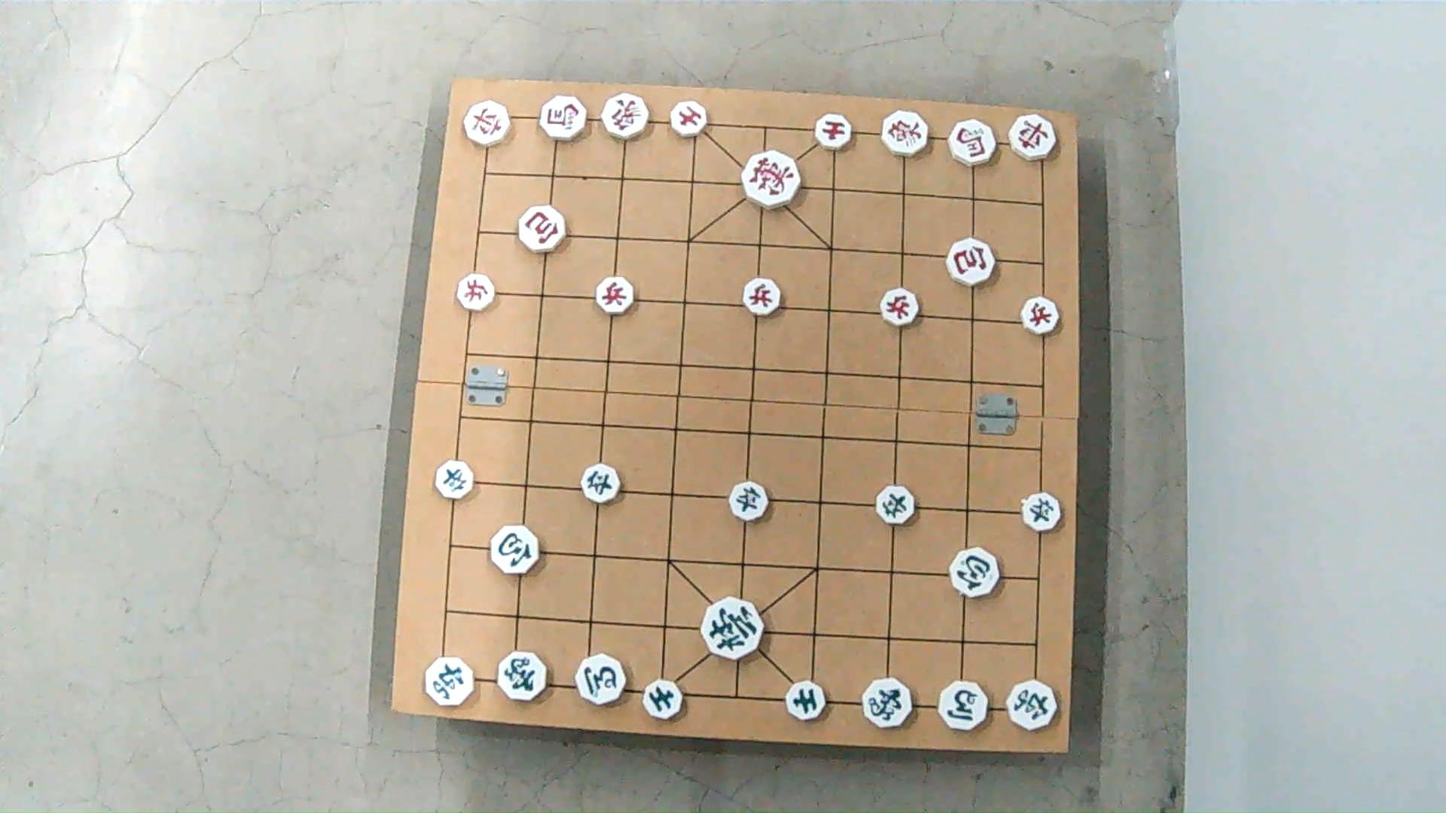cha_green: (1006, 675, 1061, 731), (422, 659, 474, 707)
cha_red: (1008, 116, 1059, 160), (464, 102, 513, 142)
jol_green: (581, 468, 626, 504), (725, 484, 771, 519), (874, 489, 918, 524), (1022, 495, 1067, 528), (433, 464, 476, 498)
jol_red: (456, 275, 499, 310), (744, 282, 786, 316), (596, 278, 638, 312), (879, 292, 920, 326), (1021, 300, 1063, 333)
ma_green: (938, 682, 993, 731), (575, 656, 628, 704)
ma_red: (535, 96, 586, 139), (948, 123, 999, 165)
po_green: (489, 528, 543, 571), (947, 549, 999, 593)
po_red: (947, 243, 998, 285), (519, 209, 569, 251)
sa_green: (783, 680, 829, 720), (642, 678, 685, 718)
sa_red: (812, 114, 852, 149), (672, 105, 712, 138)
sang_green: (858, 675, 916, 727), (495, 650, 549, 702)
sang_red: (601, 97, 651, 140), (879, 114, 929, 157)
wang_green: (701, 602, 764, 657)
wang_red: (744, 155, 806, 206)
